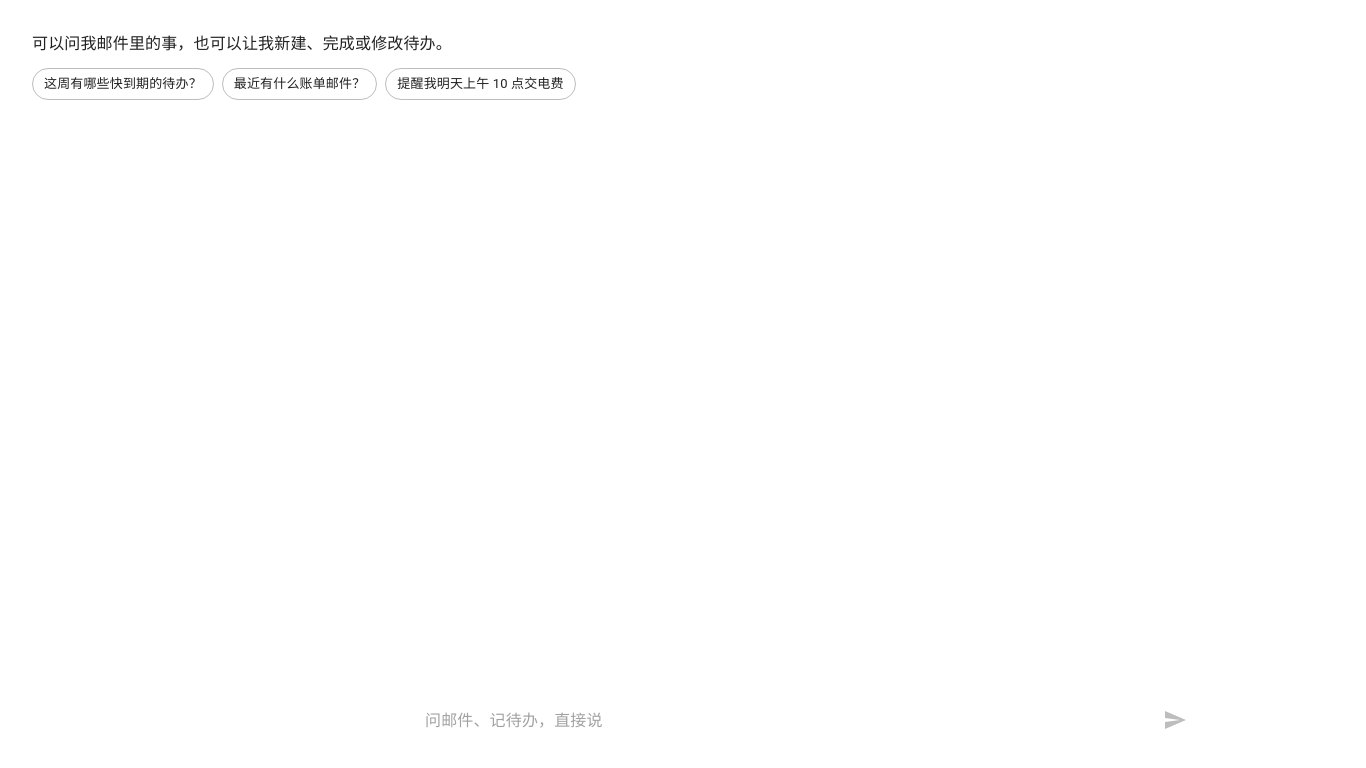
Test: 发送与快捷键 › Enter 发送一次 POST /api/assistant/chat，body.messages 最后一条是输入文本
In the text box named "给助理的消息": (779, 720) [425, 708, 1133, 732], type "明天有什么要交的"
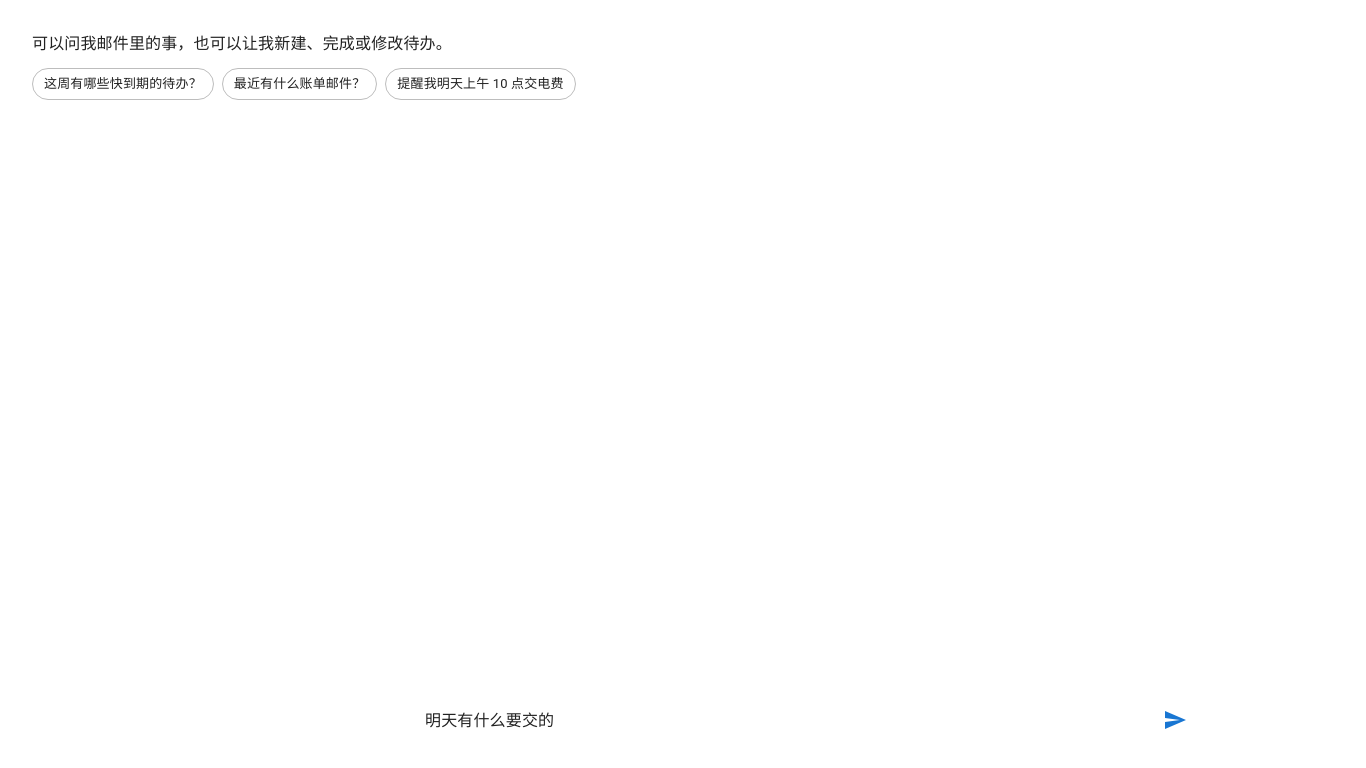
Press Enter in the text box named "给助理的消息", box [425, 708, 1133, 732]
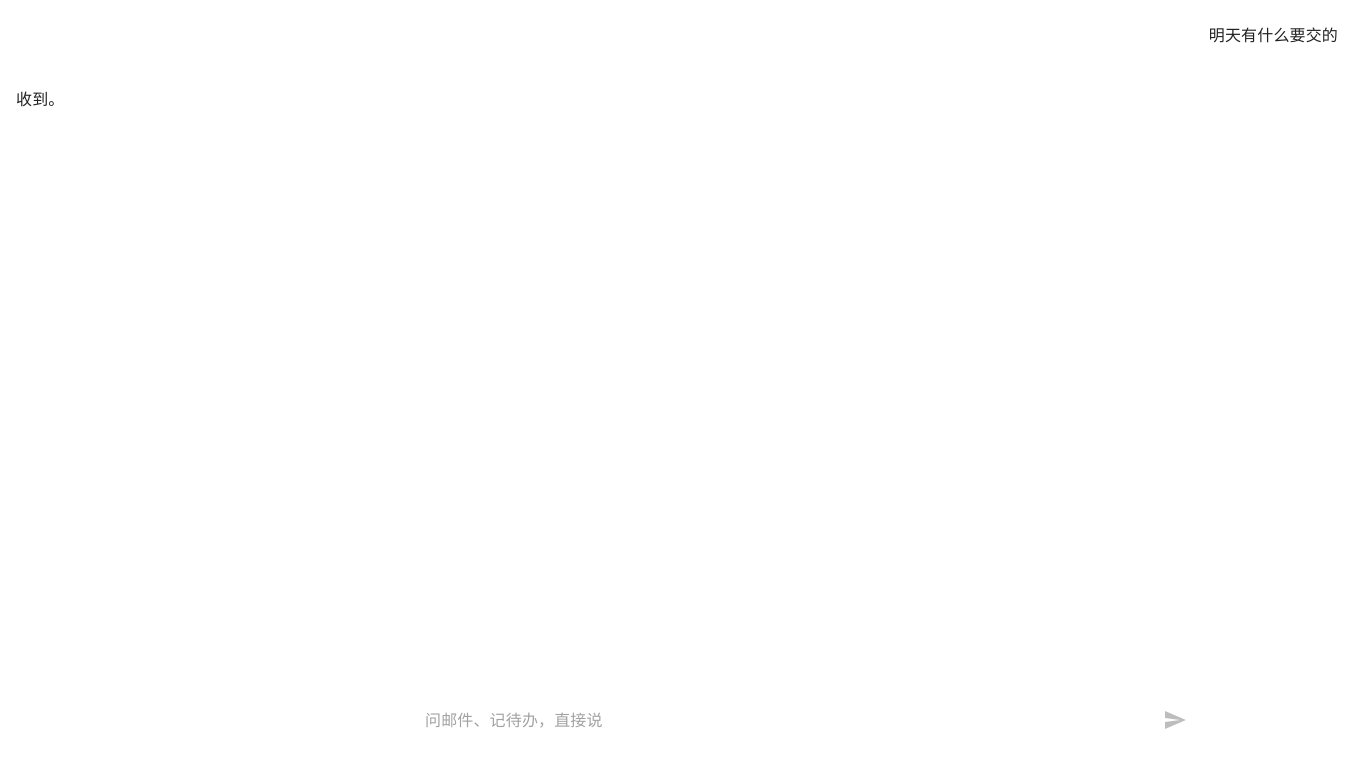
Now the text "收到。" is shown, box [16, 90, 64, 109]
